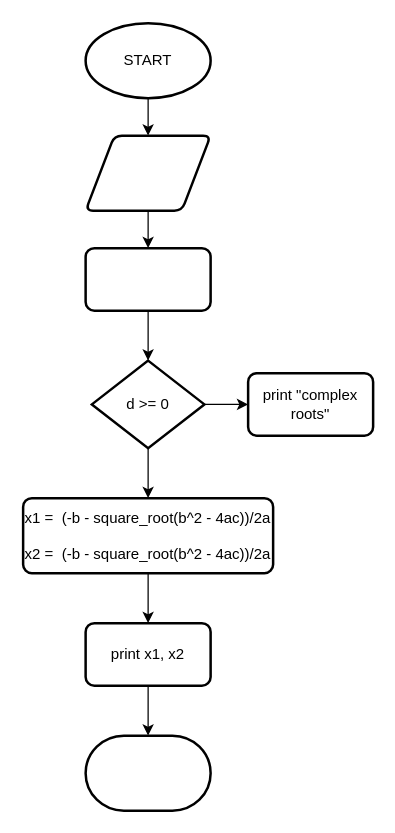
The diagram is 395 pixels wide and 833 high, and some of its shapes have lost their labels. Each missing label, with the centre of its shape:
"d = b^2 -4ac" goes at (x=147, y=278).
"input a, b, c" goes at (x=147, y=172).
"STOP" goes at (x=147, y=772).
